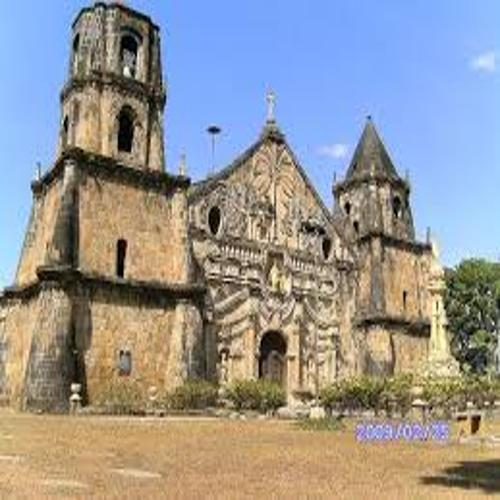Miagao Church: (8, 1, 465, 406)
